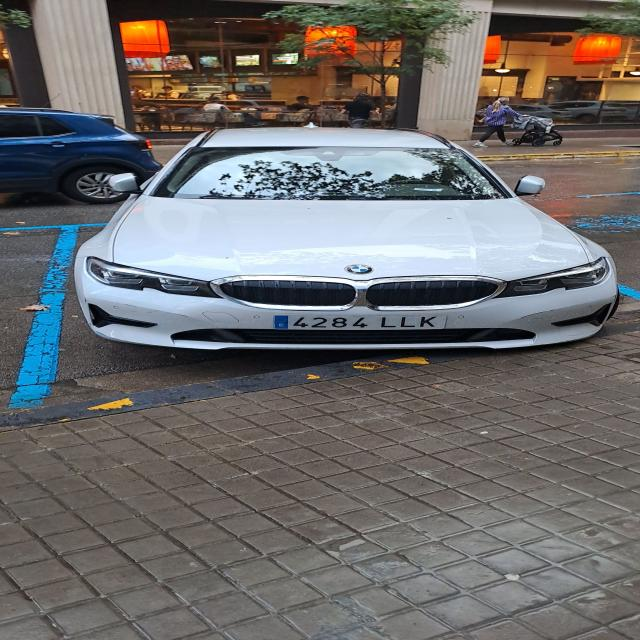license_plate-34Td: (289, 315, 447, 330)
